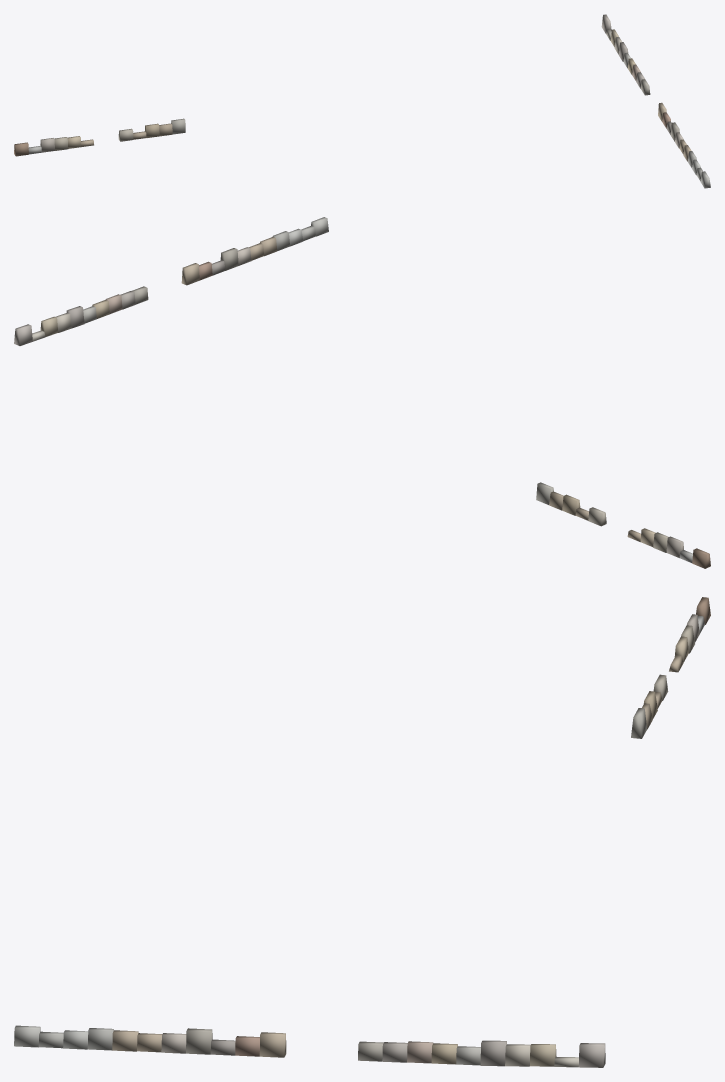
File: farm_10_7_collision.glb
The picture shows the model from 3 angles, top to bottom: view 1: azimuth 30°, elevation 25°; view 2: azimuth 150°, elevation 25°; view 3: azimuth 270°, elevation 25°; orthographic projection. The views are drawn at different scales.
Parts seen in each view (by area): view 1: geometry_0; view 2: geometry_0; view 3: geometry_0.
Part boxes in pixels (x1,y1,x2,y2): geometry_0: [14, 14, 710, 188]; geometry_0: [14, 217, 710, 568]; geometry_0: [14, 597, 710, 1067].
Size of the model in its own units: 70.62 by 3.88 by 43.7.
